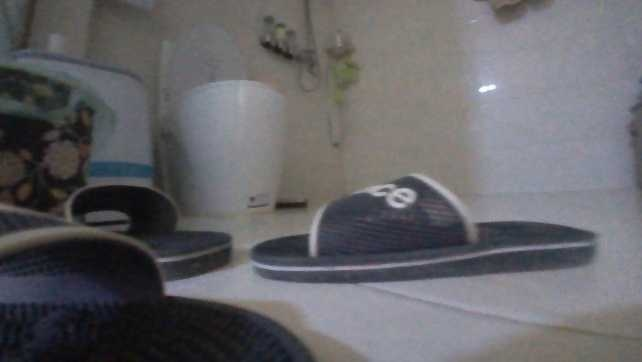slipper: (0, 208, 317, 360), (249, 168, 600, 283), (47, 180, 239, 280)
toilet: (154, 19, 293, 217)
